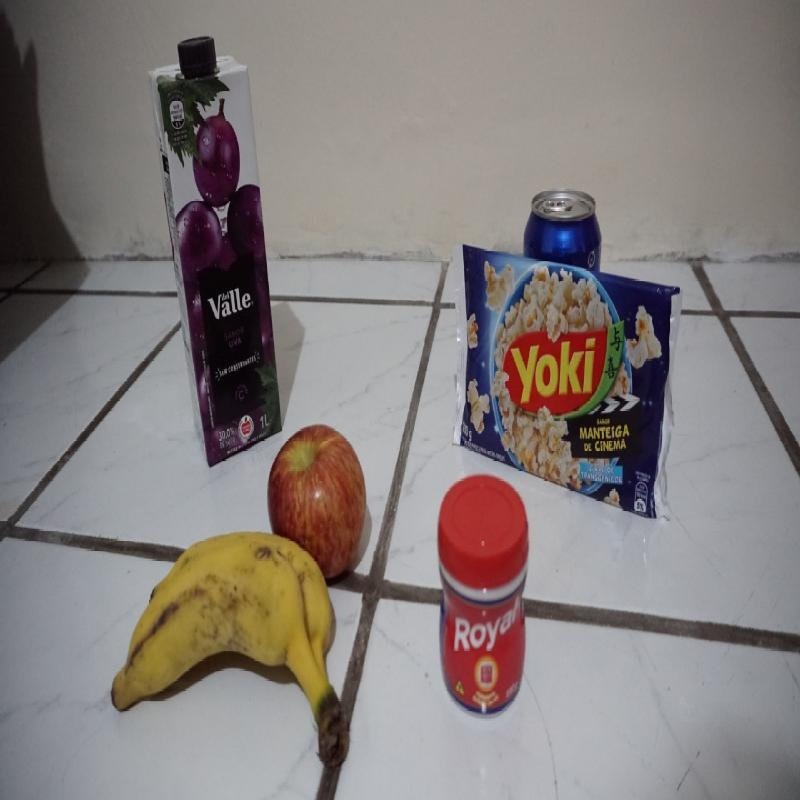Apple: (265, 421, 370, 580)
Banana: (108, 528, 352, 772)
Popcorn: (448, 238, 684, 527)
Soda can: (520, 188, 608, 272)
Yeast: (437, 472, 530, 710)
